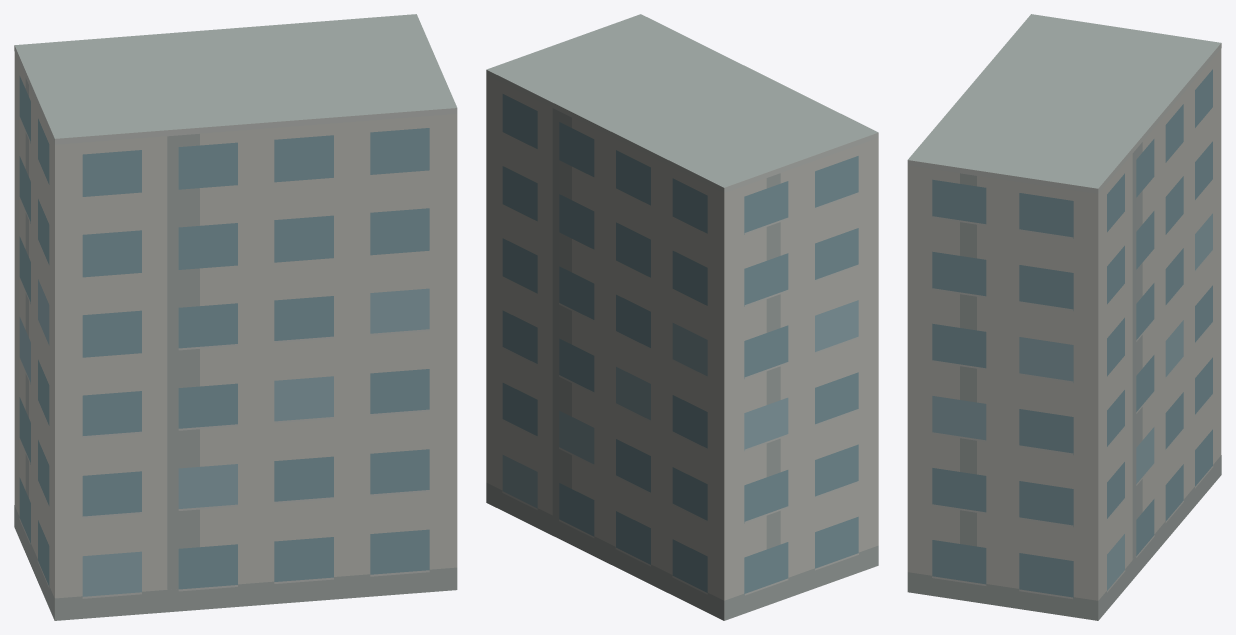
Rendered from survey-upis-32893035.glb.
3 renders of one model, left to right at view 1: azimuth 30°, elevation 25°; view 2: azimuth 150°, elevation 25°; view 3: azimuth 270°, elevation 25°, orthographic. The views are drawn at different scales.
Parts seen in each view (by area): view 1: survey-upis-32893035.tmp; view 2: survey-upis-32893035.tmp; view 3: survey-upis-32893035.tmp.
Part boxes in pixels (x1=…): survey-upis-32893035.tmp: x1=14, y1=14, x2=457, y2=620; survey-upis-32893035.tmp: x1=486, y1=14, x2=878, y2=620; survey-upis-32893035.tmp: x1=907, y1=14, x2=1221, y2=620.
Bounding box in the file's own units: 16.74 × 19.3 × 12.72.
